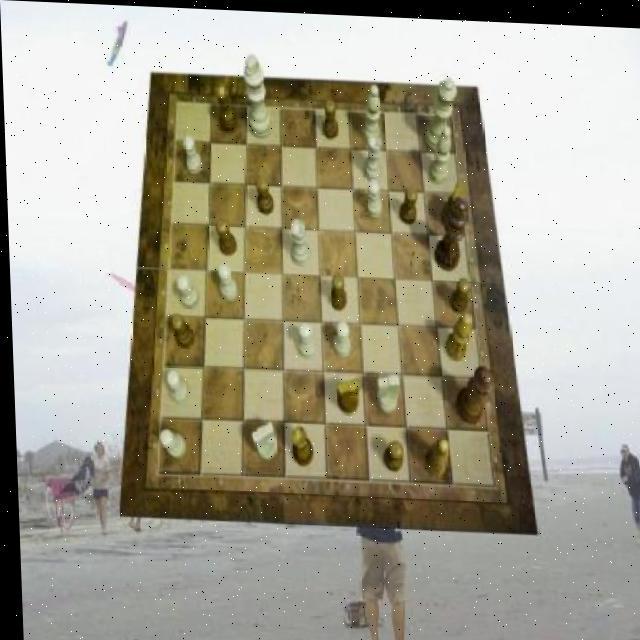bishop: (443, 308, 471, 358), (421, 434, 447, 475)
black-bishop: (431, 192, 469, 267)
black-king: (439, 178, 464, 227), (334, 376, 358, 413)
black-knight: (169, 312, 193, 347), (446, 274, 469, 309), (214, 217, 235, 253), (397, 183, 417, 220), (321, 97, 338, 138), (328, 270, 346, 308), (380, 437, 401, 469), (255, 175, 273, 211)
black-pawn: (452, 361, 494, 423)
black-queen: (216, 81, 238, 131), (288, 424, 310, 464)
black-rook: (426, 123, 452, 182), (359, 82, 381, 141)
white-bishop: (243, 51, 272, 136)
white-king: (373, 371, 398, 410), (249, 419, 274, 457)
white-knight: (174, 273, 198, 308), (163, 369, 186, 404), (157, 428, 184, 457), (182, 134, 202, 173), (217, 263, 237, 299), (295, 319, 314, 356), (331, 317, 349, 354), (363, 176, 380, 214)
white-pawn: (421, 74, 459, 148)
white-queen: (362, 130, 382, 179), (288, 218, 308, 264)
